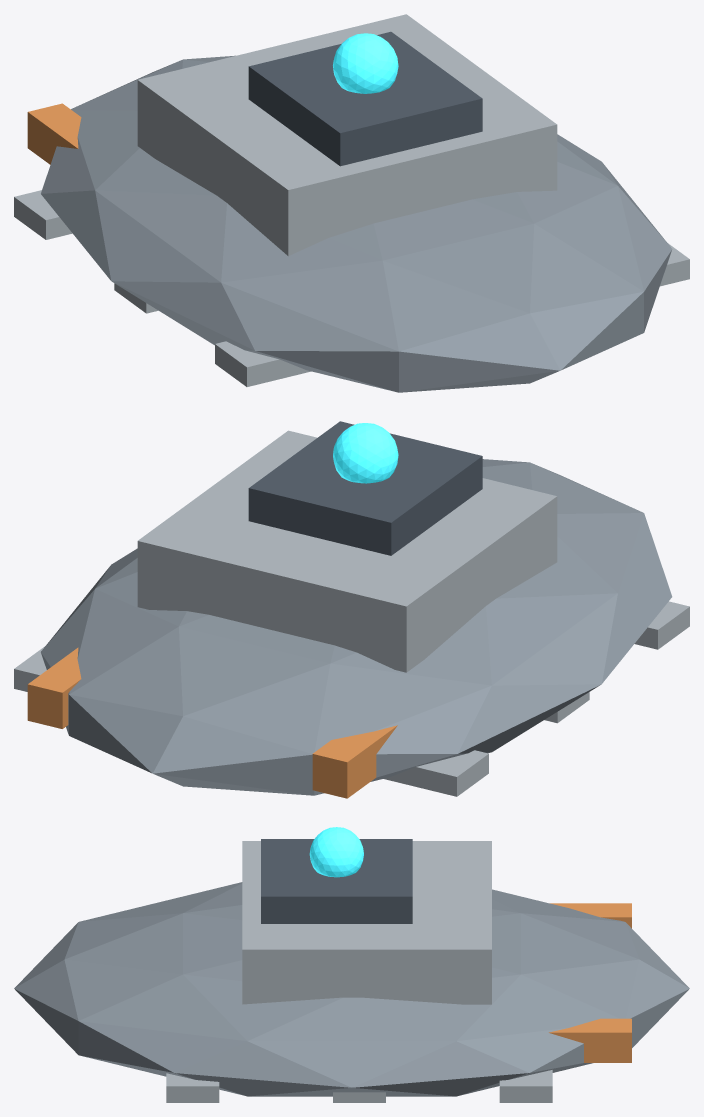
Rendered from battlecruiser.glb.
3 renders of one model, top to bottom at view 1: azimuth 30°, elevation 25°; view 2: azimuth 150°, elevation 25°; view 3: azimuth 270°, elevation 25°, orthographic. The views are drawn at different scales.
Parts seen in each view (by area): view 1: detail_000, detail_001, detail_002, detail_003, detail_010, detail_004, detail_008; view 2: detail_000, detail_001, detail_002, detail_004, detail_008, detail_003, detail_006, detail_010; view 3: detail_000, detail_001, detail_002, detail_006, detail_003, detail_008, detail_010, detail_004, detail_009.
Boxes of the visible parts, <box> form: detail_000: <box>41,55,672,392</box>; detail_001: <box>137,14,557,256</box>; detail_002: <box>248,31,482,166</box>; detail_003: <box>333,33,398,93</box>; detail_010: <box>215,243,689,386</box>; detail_004: <box>27,103,81,164</box>; detail_008: <box>14,190,72,239</box>; detail_000: <box>41,459,672,795</box>; detail_001: <box>137,430,557,672</box>; detail_002: <box>248,421,482,555</box>; detail_004: <box>312,725,397,798</box>; detail_008: <box>14,646,488,796</box>; detail_003: <box>333,423,398,483</box>; detail_006: <box>27,647,81,728</box>; detail_010: <box>634,601,689,649</box>; detail_000: <box>14,882,689,1096</box>; detail_001: <box>242,841,491,1004</box>; detail_002: <box>261,839,412,923</box>; detail_006: <box>549,1018,631,1062</box>; detail_003: <box>309,827,363,877</box>; detail_008: <box>499,1070,552,1102</box>; detail_010: <box>166,1073,219,1102</box>; detail_004: <box>550,903,631,928</box>; detail_009: <box>333,1092,385,1102</box>.
Size of the model in its own units: 3.1 by 1.56 by 4.46.
